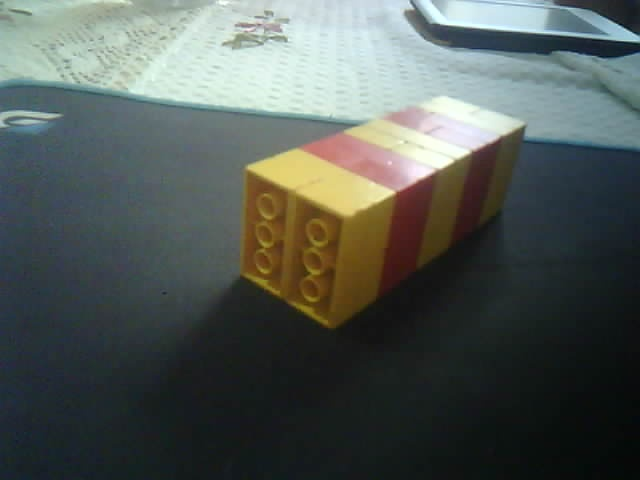lego: (238, 94, 527, 332)
